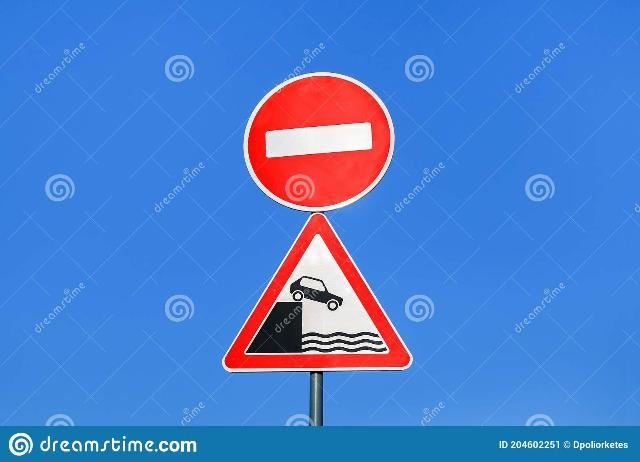B2: (242, 71, 396, 213)
